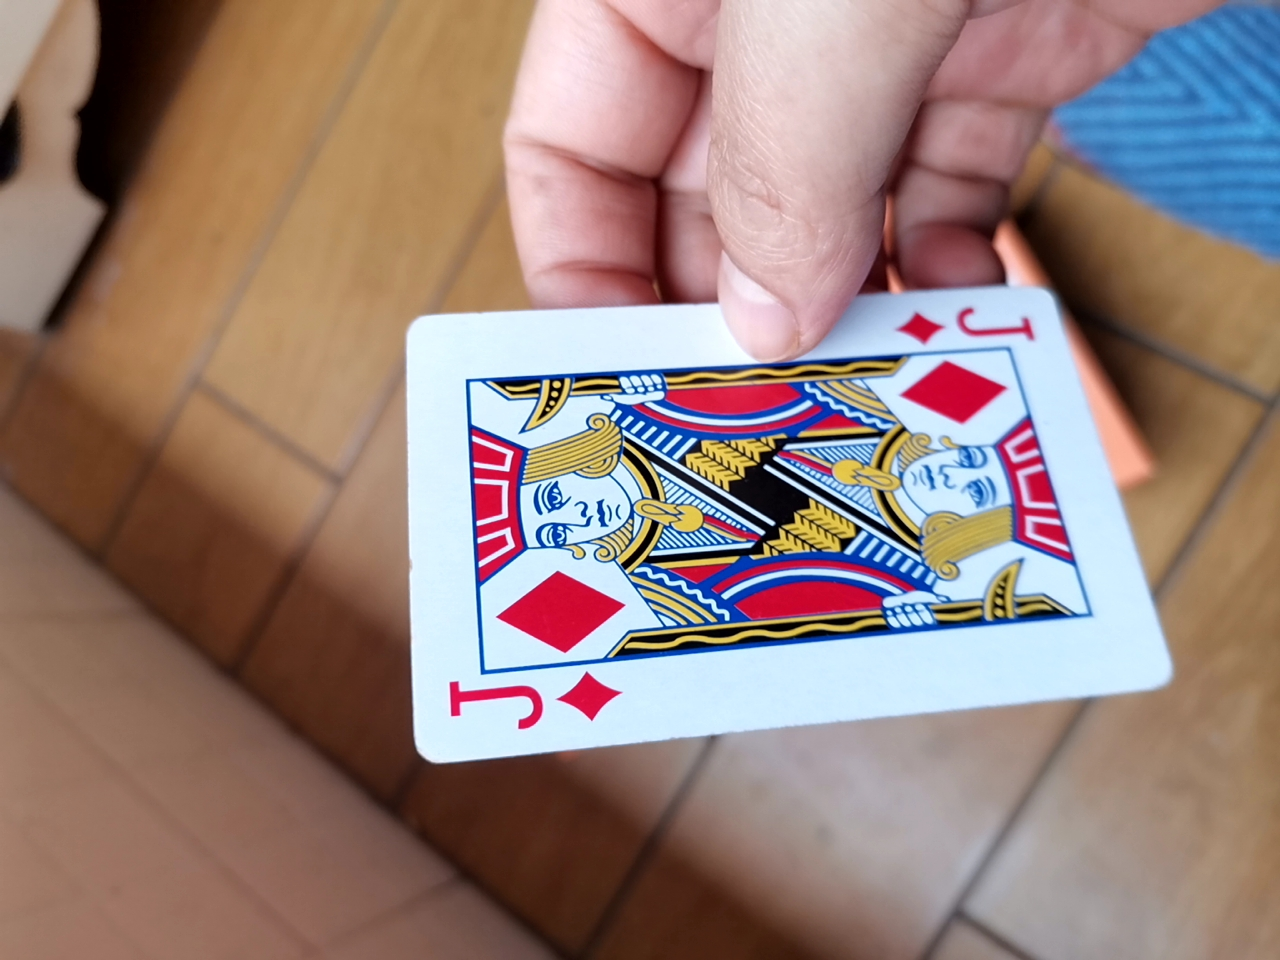fk j: (363, 270, 1164, 772)
